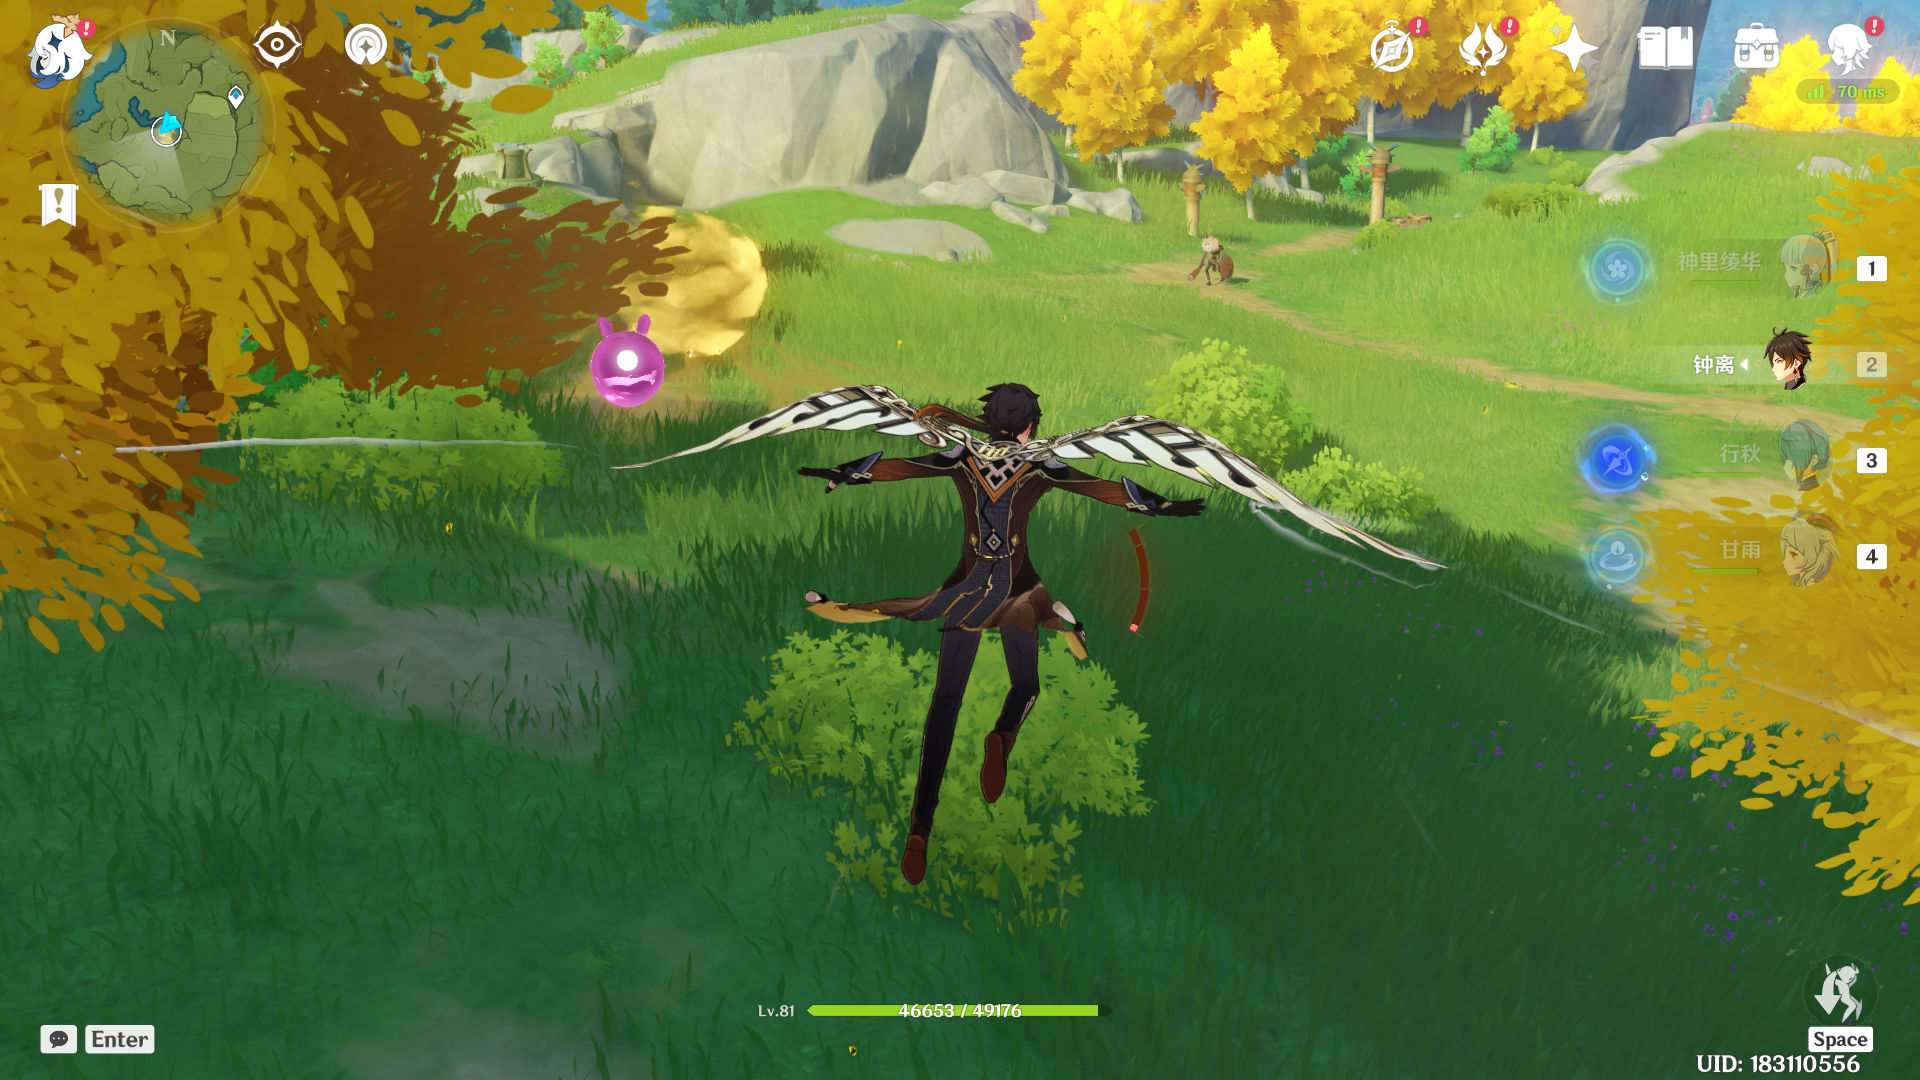character: (800, 344, 1155, 934)
